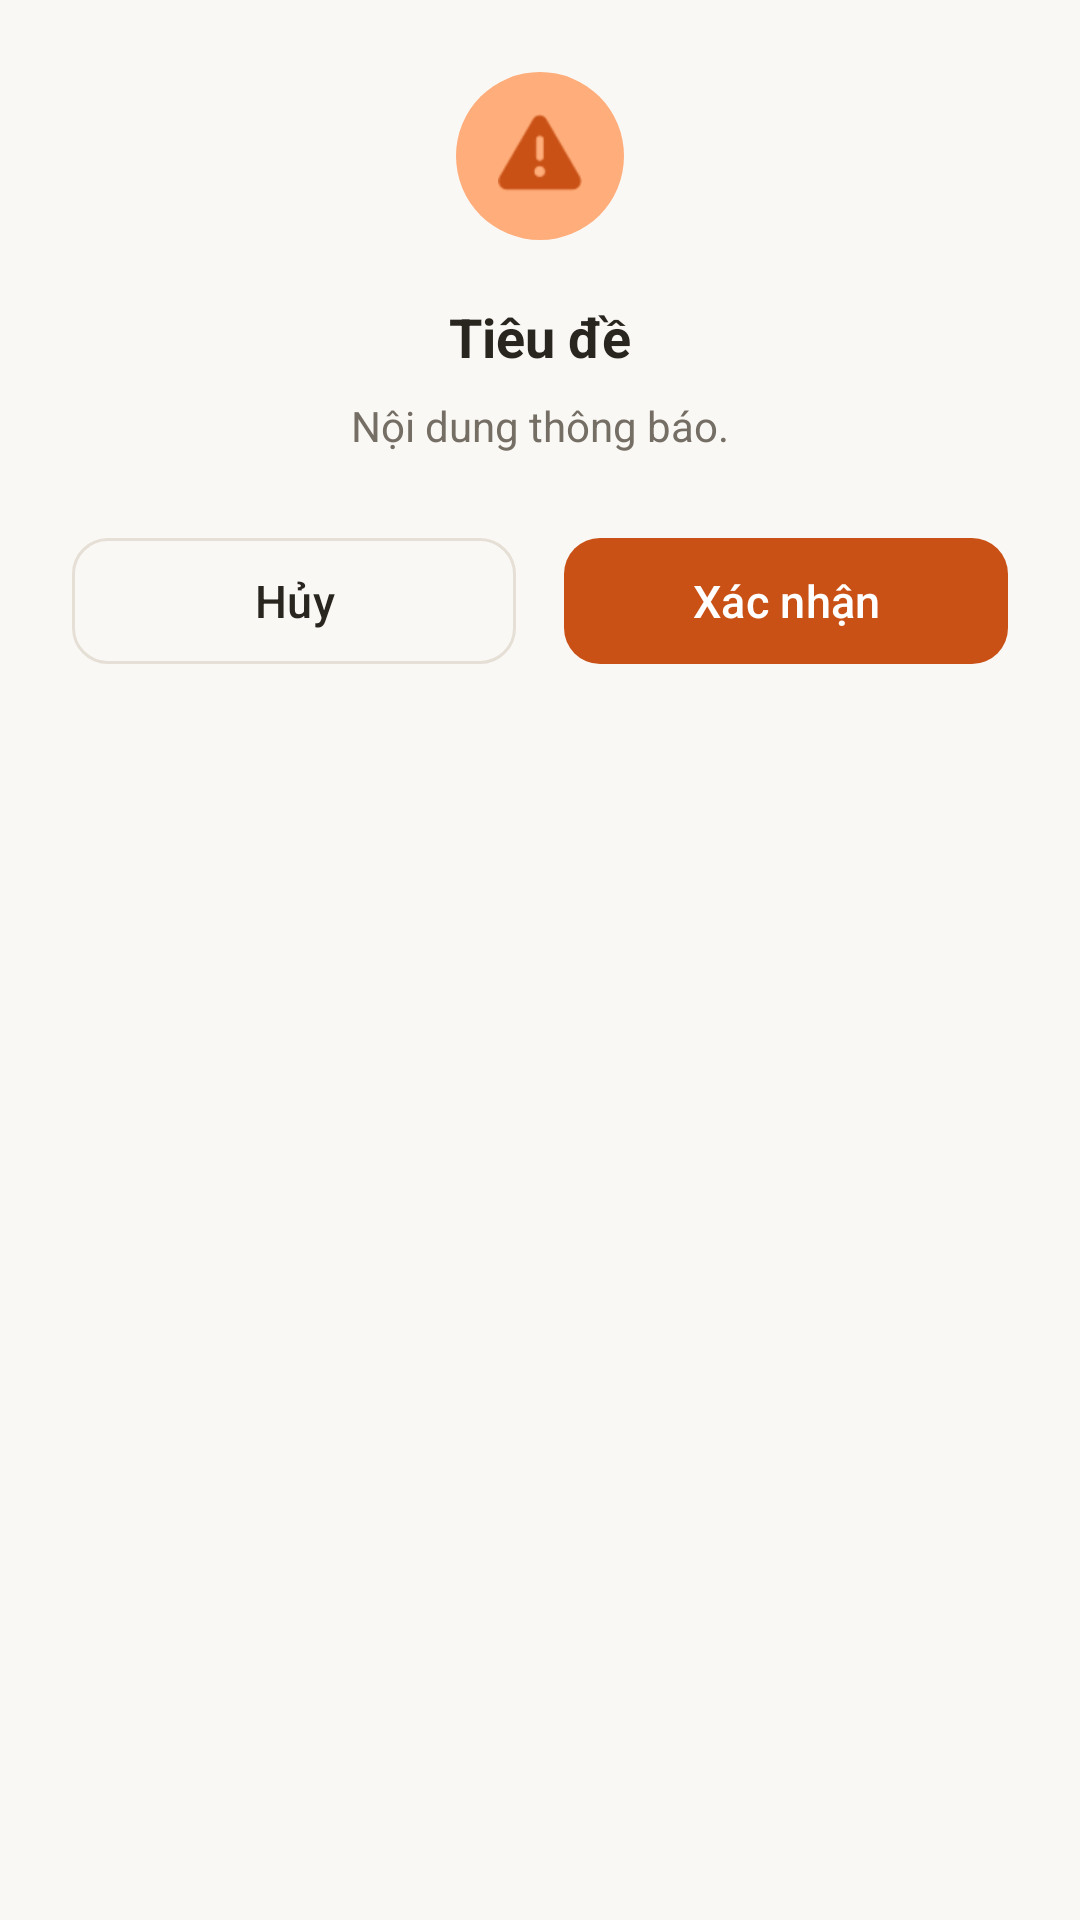

Screen size 1080w x 1920h. Icon name, then its box in pixels as BBox(x1, y1, x2, y2):
alert: BBox(498, 115, 582, 190)
